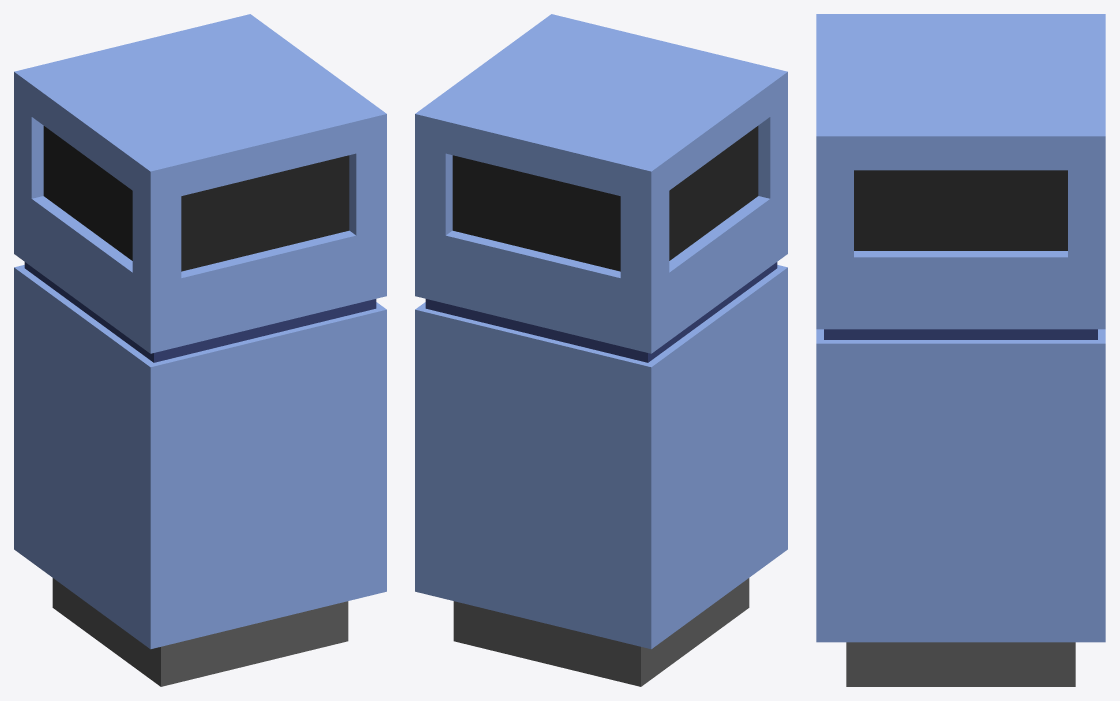
File: Trash_Can.FBX
The picture shows the model from 3 angles, left to right: view 1: azimuth 30°, elevation 25°; view 2: azimuth 150°, elevation 25°; view 3: azimuth 270°, elevation 25°; orthographic projection. The views are drawn at different scales.
Parts seen in each view (by area): view 1: Box001; view 2: Box001; view 3: Box001.
Part boxes in pixels (x1,y1,x2,y2): Box001: [14, 14, 386, 686]; Box001: [415, 14, 787, 686]; Box001: [816, 14, 1105, 686].
Bounding box in the file's own units: 18.2 × 39.11 × 18.2.
